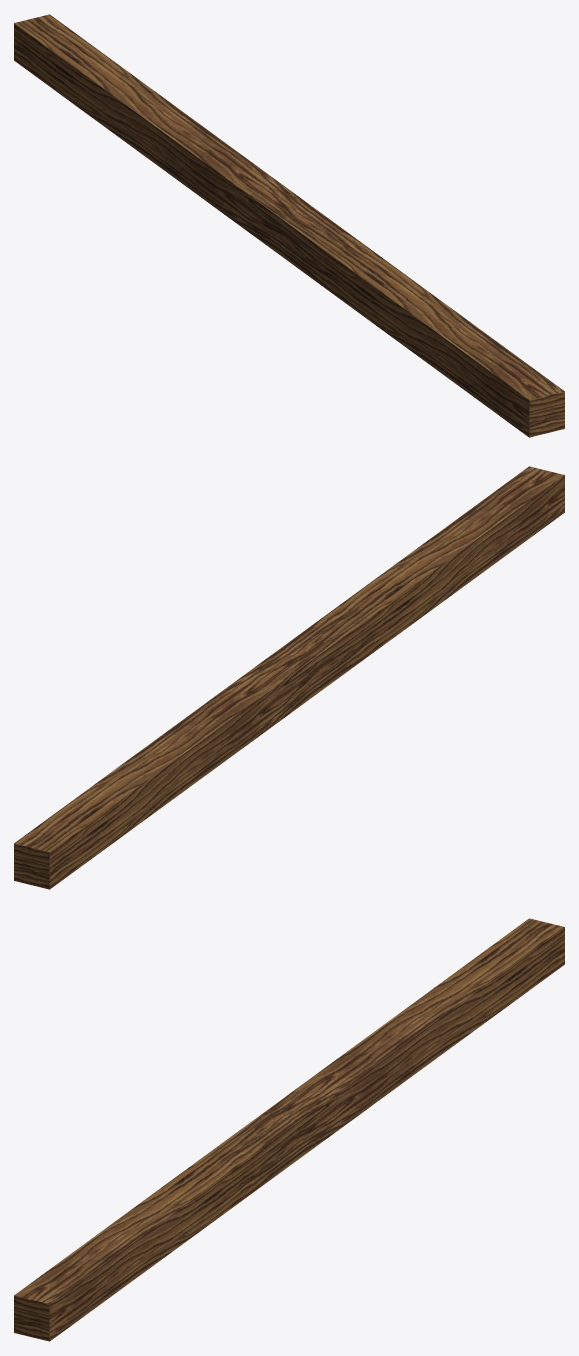
File: LAKETOWN_WAREHOUSE2_PS_WH2_ROPETRACK__GX.fbx
The picture shows the model from 3 angles, top to bottom: view 1: azimuth 30°, elevation 25°; view 2: azimuth 150°, elevation 25°; view 3: azimuth 330°, elevation 25°; orthographic projection.
Parts seen in each view (by area): view 1: LAKETOWN_WAREHOUSE2_PS_WH2_ROPETRACK__GX; view 2: LAKETOWN_WAREHOUSE2_PS_WH2_ROPETRACK__GX; view 3: LAKETOWN_WAREHOUSE2_PS_WH2_ROPETRACK__GX.
Boxes of the visible parts, bbox=[...] form: LAKETOWN_WAREHOUSE2_PS_WH2_ROPETRACK__GX: bbox=[14, 14, 564, 437]; LAKETOWN_WAREHOUSE2_PS_WH2_ROPETRACK__GX: bbox=[14, 466, 564, 889]; LAKETOWN_WAREHOUSE2_PS_WH2_ROPETRACK__GX: bbox=[14, 918, 564, 1341].
Size of the model in its own units: 5015 by 5132 by 125121.
Materials: 3 (3 with a texture image).
